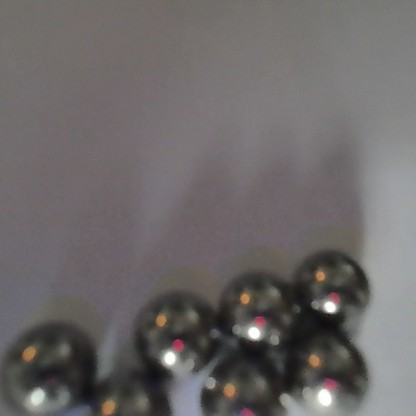ironball: (3, 319, 116, 414), (130, 290, 231, 386), (208, 262, 298, 349), (288, 329, 367, 416), (197, 355, 303, 414), (295, 248, 367, 320), (93, 370, 179, 414)
